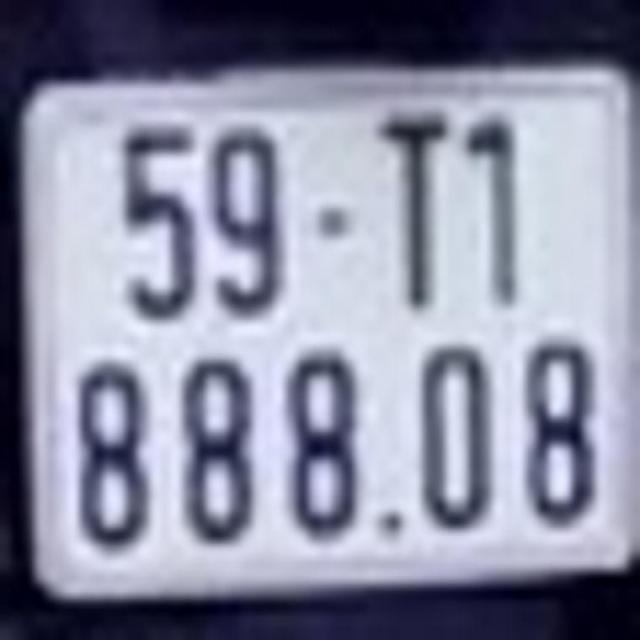0: (418, 342, 496, 532)
1: (464, 114, 520, 313)
5: (120, 125, 196, 318)
8: (280, 348, 362, 540), (181, 356, 259, 542), (524, 338, 598, 529), (78, 359, 150, 546)
9: (211, 129, 281, 314)
T: (378, 115, 449, 308)
